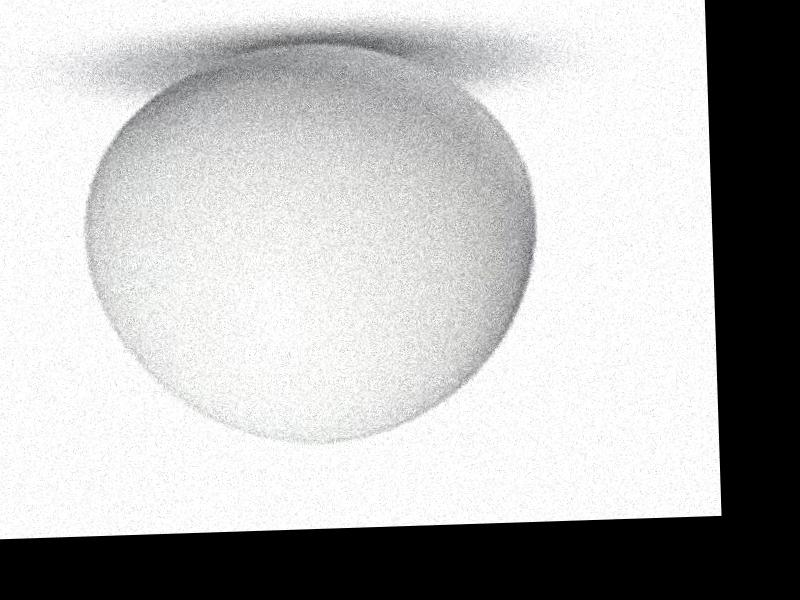Eggs: (81, 39, 535, 453)
